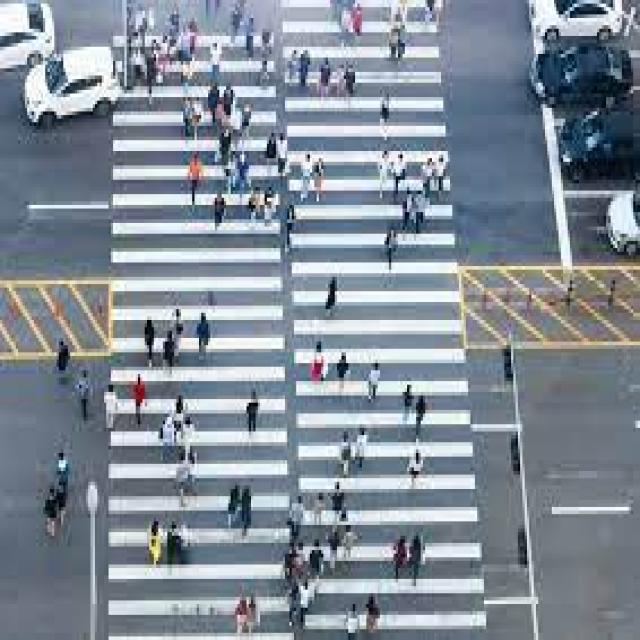Pedestrians: (101, 381, 118, 435), (310, 334, 326, 388), (167, 521, 188, 561), (54, 446, 75, 485), (77, 370, 93, 421), (43, 485, 59, 536), (244, 381, 260, 432), (337, 428, 353, 478), (366, 352, 380, 407), (226, 474, 240, 528), (131, 378, 147, 424), (147, 518, 163, 564), (334, 349, 350, 395), (407, 442, 423, 486), (355, 421, 369, 471), (143, 320, 156, 367), (240, 486, 253, 532), (412, 392, 428, 428), (199, 309, 210, 360), (326, 273, 339, 313), (54, 342, 70, 374), (402, 378, 414, 420)
